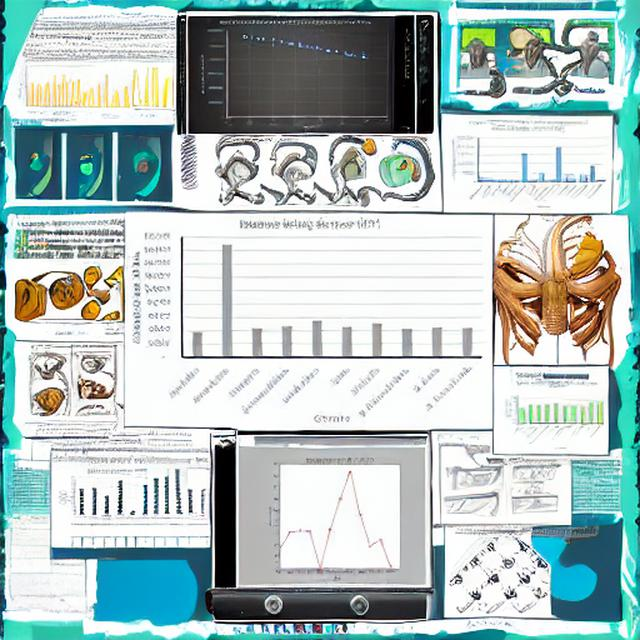Graph: (131, 215, 487, 425), (251, 451, 425, 582), (200, 18, 393, 133), (448, 117, 609, 211), (504, 381, 606, 451), (61, 471, 153, 523), (18, 63, 103, 114), (5, 571, 56, 601)
